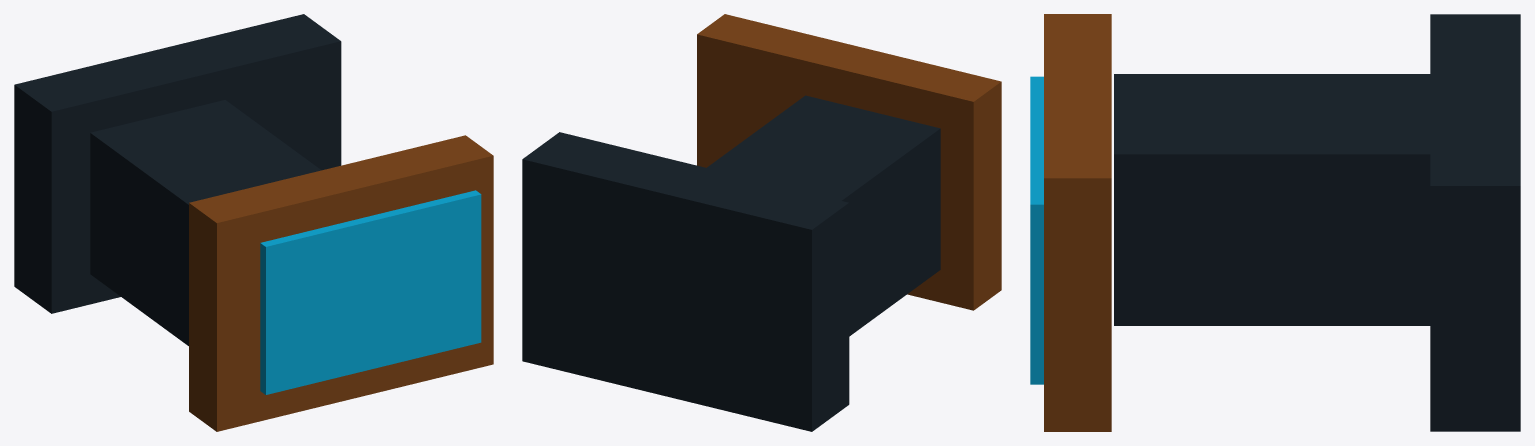
Rendered from SM_Console.obj.
3 views of the same model, side by side, from view 1: azimuth 30°, elevation 25°; view 2: azimuth 150°, elevation 25°; view 3: azimuth 270°, elevation 25° (orthographic). The views are drawn at different scales.
Parts seen in each view (by area): view 1: SM_Console; view 2: SM_Console; view 3: SM_Console.
Boxes of the visible parts, x1,y1,x2,y2 form: SM_Console: (14,14,493,431); SM_Console: (522,14,1001,431); SM_Console: (1030,14,1520,431).
Size of the model in its own units: 90 by 62 by 108.
